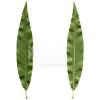Peach leaf: (61, 2, 85, 100), (16, 0, 35, 100)
